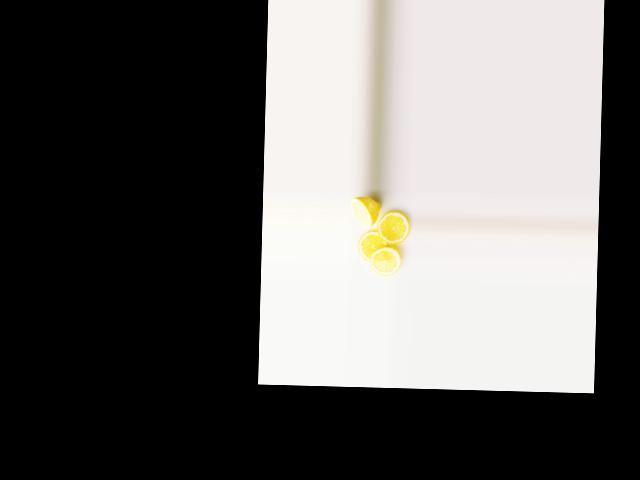lemon: (349, 194, 378, 228)
